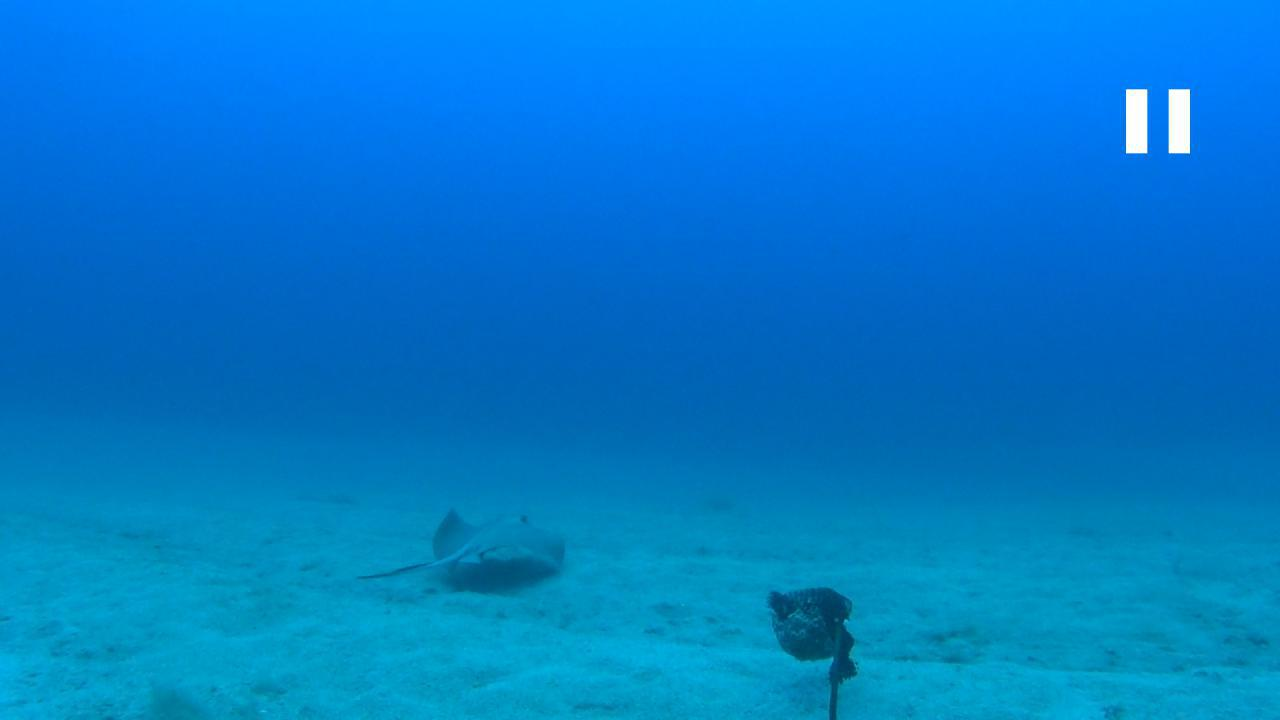dasyatis: (352, 507, 567, 584)
